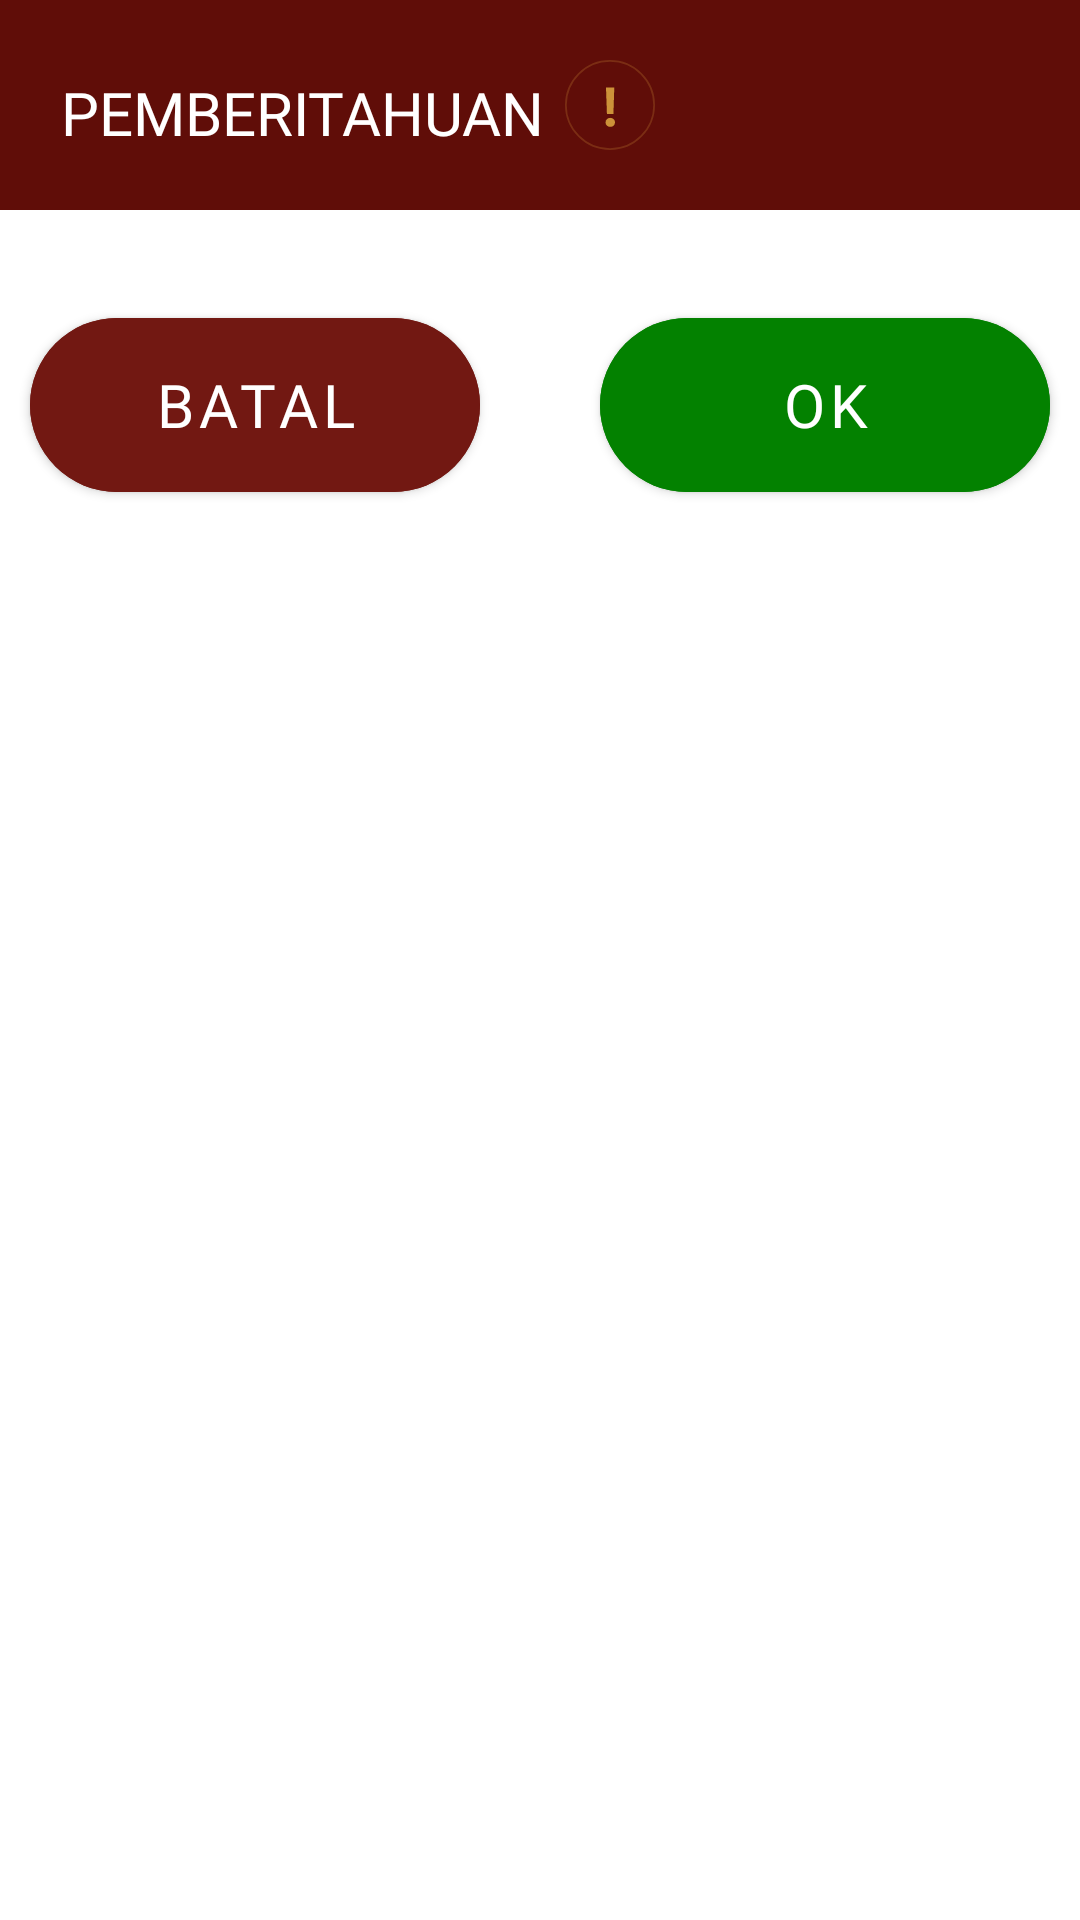

Locate icon controls on the screen. Image size 1080px×1920px, boxes as (x1, y1, x2, y2).
warning: (565, 60, 655, 150)
